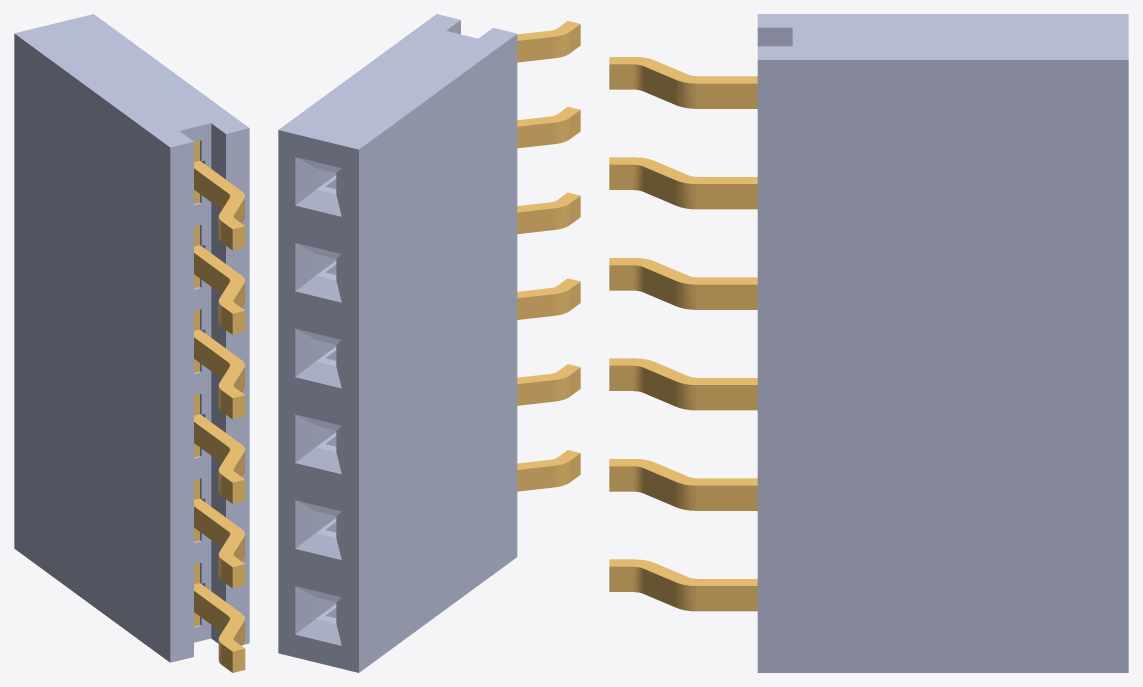
File: sfe-pinsocket_1x06_p2.54mm_horizontal_smd.glb
The picture shows the model from 3 angles, left to right: view 1: azimuth 30°, elevation 25°; view 2: azimuth 150°, elevation 25°; view 3: azimuth 270°, elevation 25°; orthographic projection. The views are drawn at different scales.
Parts seen in each view (by area): view 1: 0.5833333333333334_0.6666666666666666_0.8333333333333334_0, 1_0.5833333333333334_0.16666666666666666_0; view 2: 0.5833333333333334_0.6666666666666666_0.8333333333333334_0, 1_0.5833333333333334_0.16666666666666666_0; view 3: 0.5833333333333334_0.6666666666666666_0.8333333333333334_0, 1_0.5833333333333334_0.16666666666666666_0.
Part boxes in pixels (left/top/right/bottom): 0.5833333333333334_0.6666666666666666_0.8333333333333334_0: left=14, top=14, right=249, bottom=662; 1_0.5833333333333334_0.16666666666666666_0: left=194, top=141, right=245, bottom=672; 0.5833333333333334_0.6666666666666666_0.8333333333333334_0: left=278, top=14, right=517, bottom=672; 1_0.5833333333333334_0.16666666666666666_0: left=517, top=21, right=580, bottom=491; 0.5833333333333334_0.6666666666666666_0.8333333333333334_0: left=757, top=14, right=1128, bottom=672; 1_0.5833333333333334_0.16666666666666666_0: left=609, top=57, right=757, bottom=611.
Bounding box in the file's own units: 0.25 × 1.55 × 1.19.
